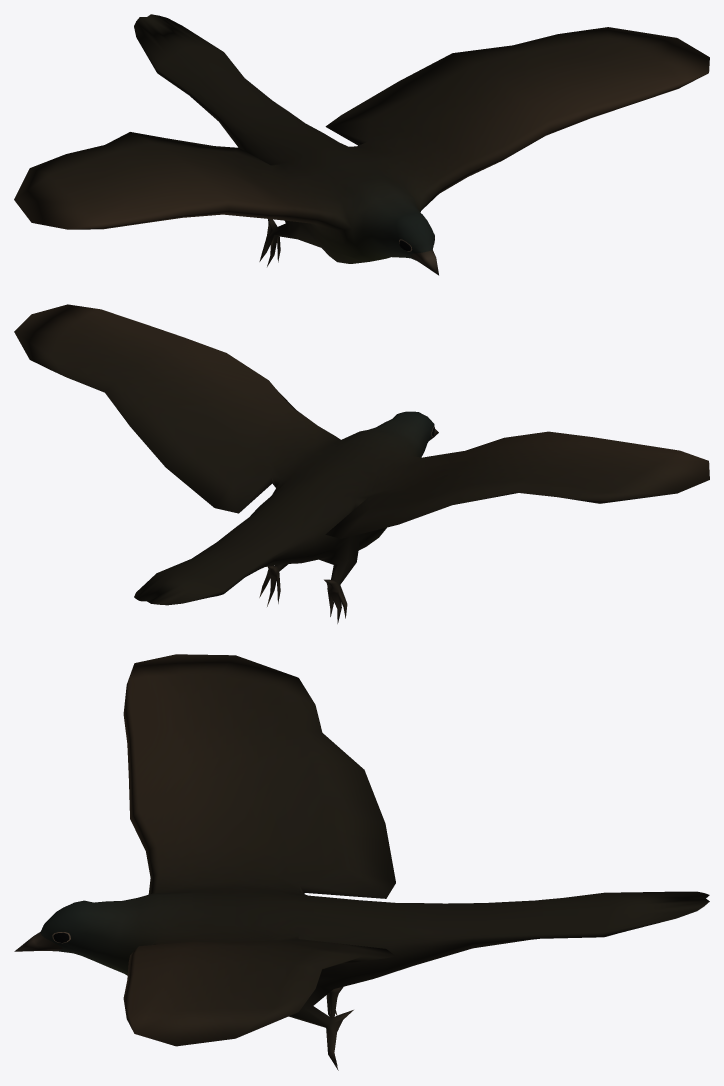
Rendered from animals-birds-grackle_v1.fbx.
3 renders of one model, top to bottom at view 1: azimuth 30°, elevation 25°; view 2: azimuth 150°, elevation 25°; view 3: azimuth 270°, elevation 25°, orthographic. The views are drawn at different scales.
Visible parts, largest first — view 1: Grackle.001; view 2: Grackle.001; view 3: Grackle.001.
Boxes of the visible parts, <box> form: Grackle.001: <box>14,14,709,275</box>; Grackle.001: <box>14,304,709,623</box>; Grackle.001: <box>14,654,709,1070</box>.
Size of the model in its own units: 0.9077 by 0.2261 by 0.6809.
